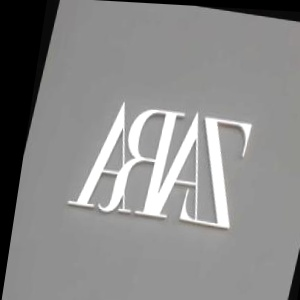zara: (232, 56, 292, 151)
